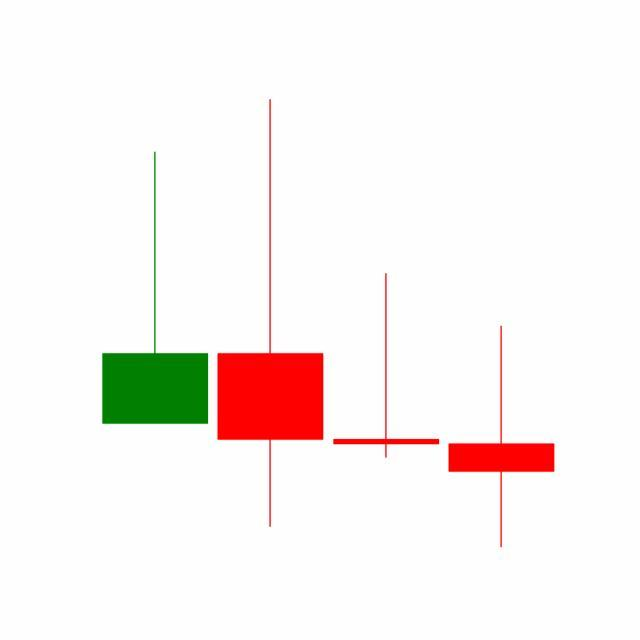Gravestone Doji: (329, 272, 445, 461)
